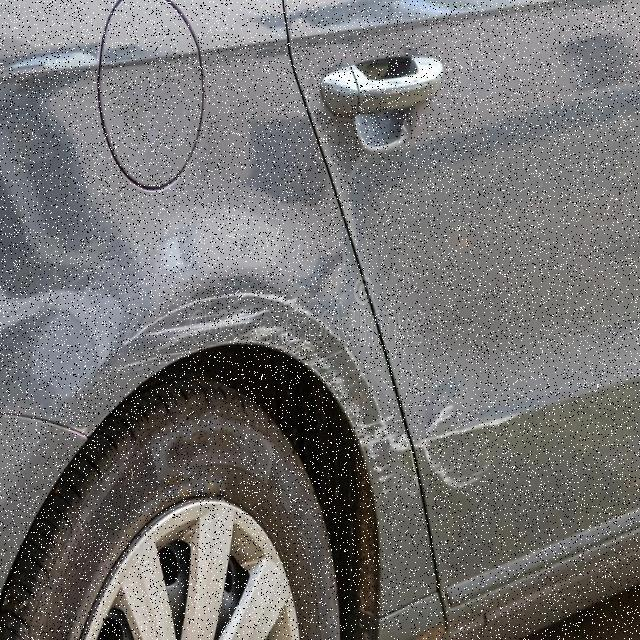doorouter-dent: (400, 0, 639, 536)
quaterpanel-dent: (0, 0, 310, 477), (2, 319, 384, 639)
